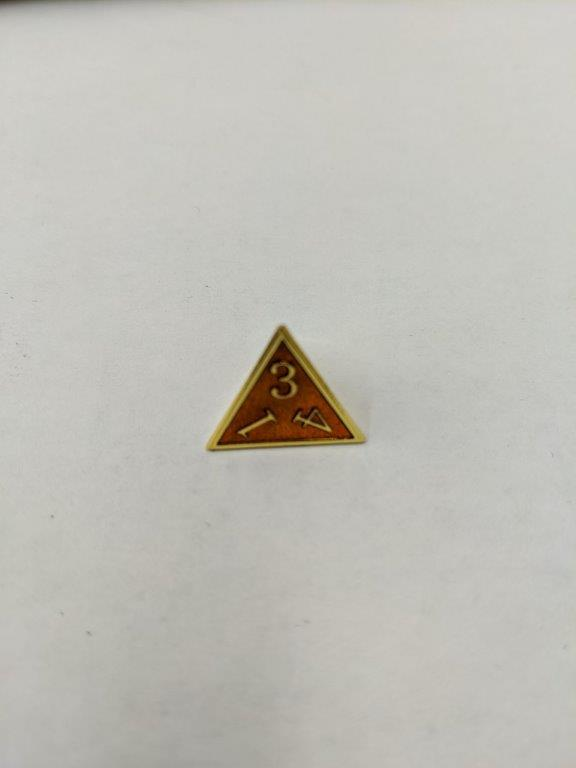d4-3: (201, 319, 376, 458)
